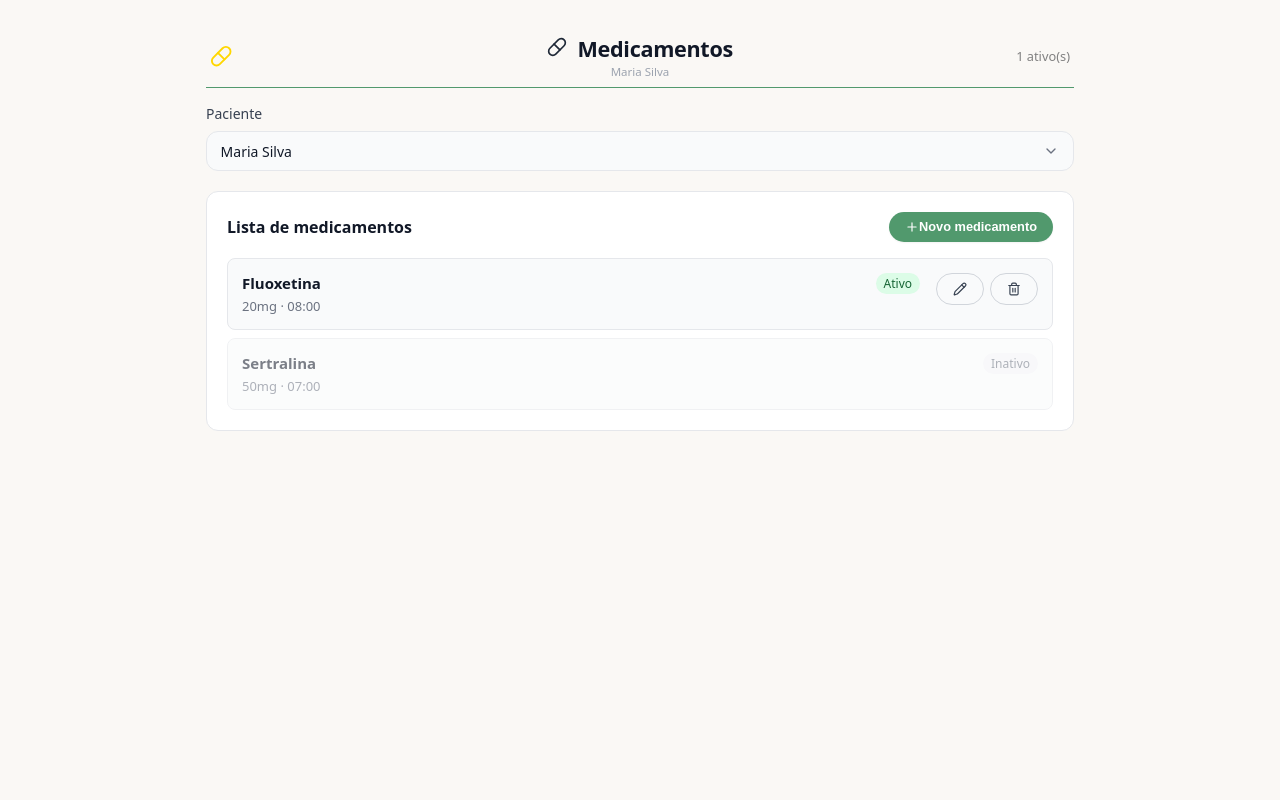
Scenario: MedicamentosProfissional › abre modal de criação ao clicar em Novo medicamento
Click the button "Novo medicamento": (971, 227) [889,212,1053,242]
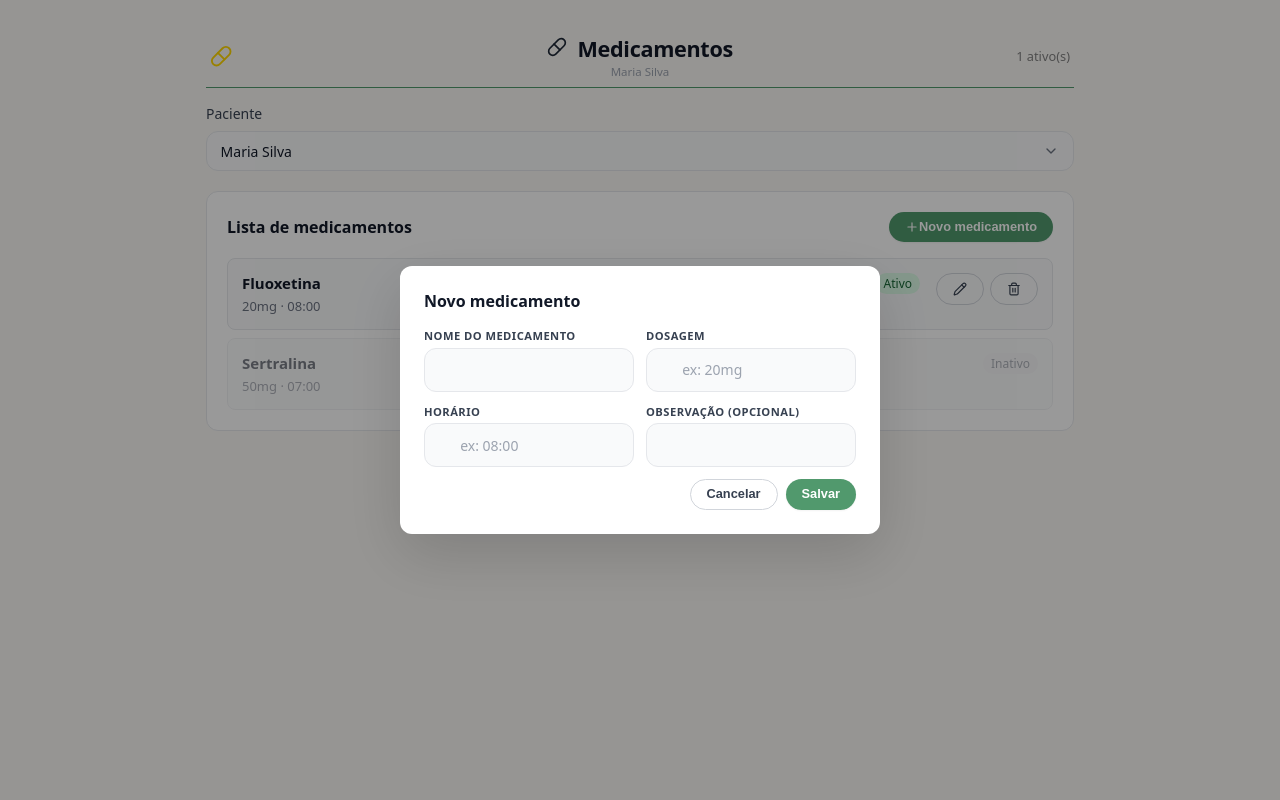
Expected: the field labelled "Nome do medicamento" is shown, [424,348,634,392]
Now the dialog is shown
